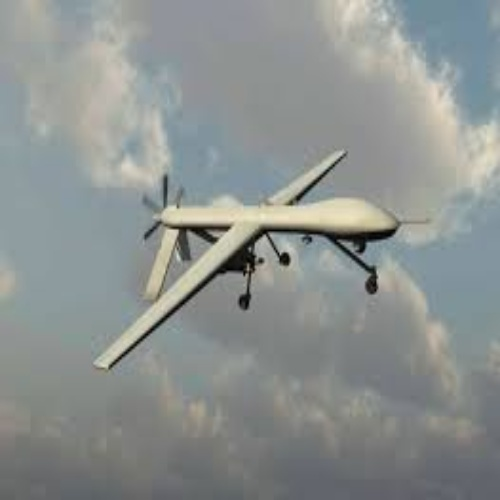uav3: (87, 150, 404, 366)
